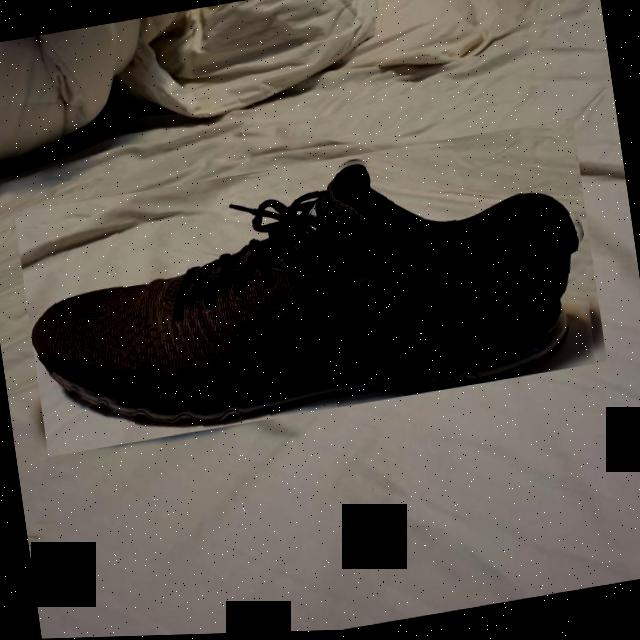shoe: (14, 121, 607, 458)
